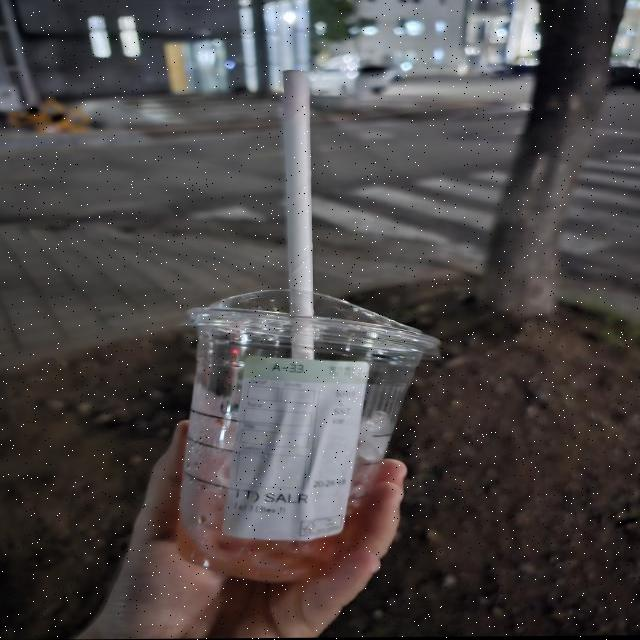cup: (164, 283, 443, 590)
